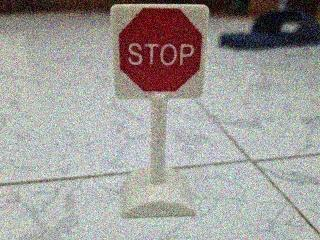stop: (105, 0, 215, 108)
